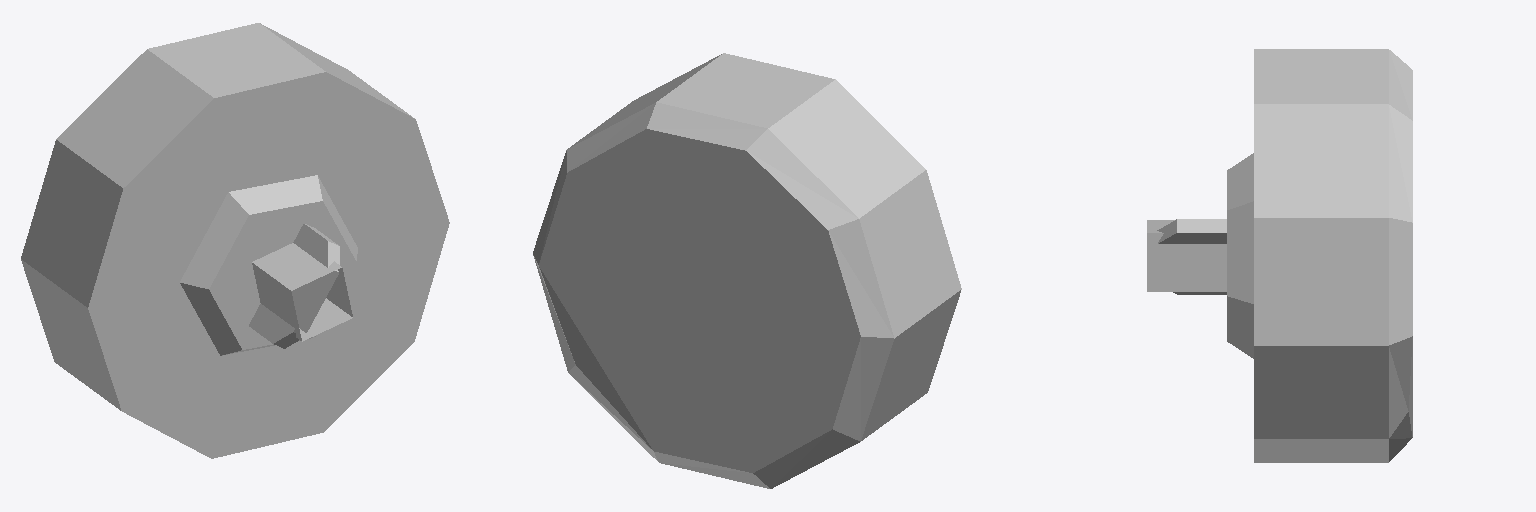
Rendered from wheel210.obj.
3 views of the same model, side by side, from view 1: azimuth 30°, elevation 25°; view 2: azimuth 150°, elevation 25°; view 3: azimuth 270°, elevation 25° (orthographic).
Parts seen in each view (by area): view 1: wheel_low_textures; view 2: wheel_low_textures; view 3: wheel_low_textures.
Part boxes in pixels (x1,y1,x2,y2): wheel_low_textures: (21,23,449,458); wheel_low_textures: (533,53,961,488); wheel_low_textures: (1147,49,1412,462).
Bounding box in the file's own units: 1.56 × 1.49 × 0.9907.